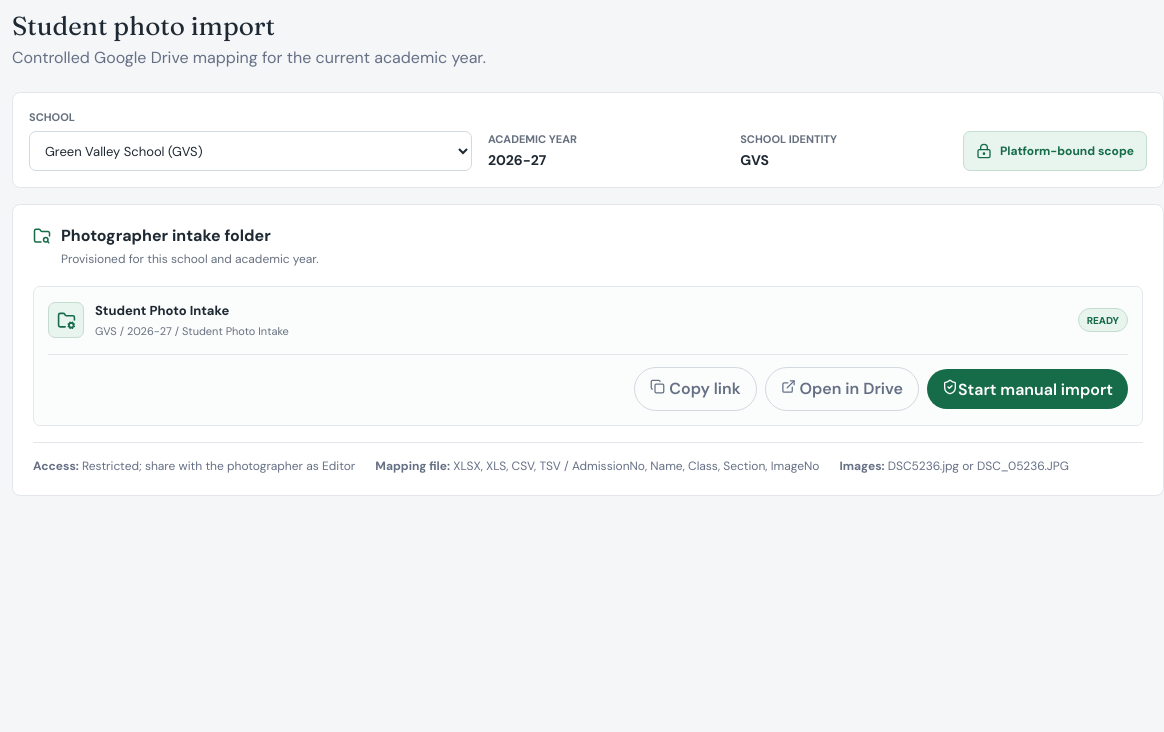
PhotoImportPanel › ignores an old history response after switching away and back to the same school
Select "Treehouse School (THS)" in the dropdown labelled "School" at (250, 151), box [29,131,472,171]
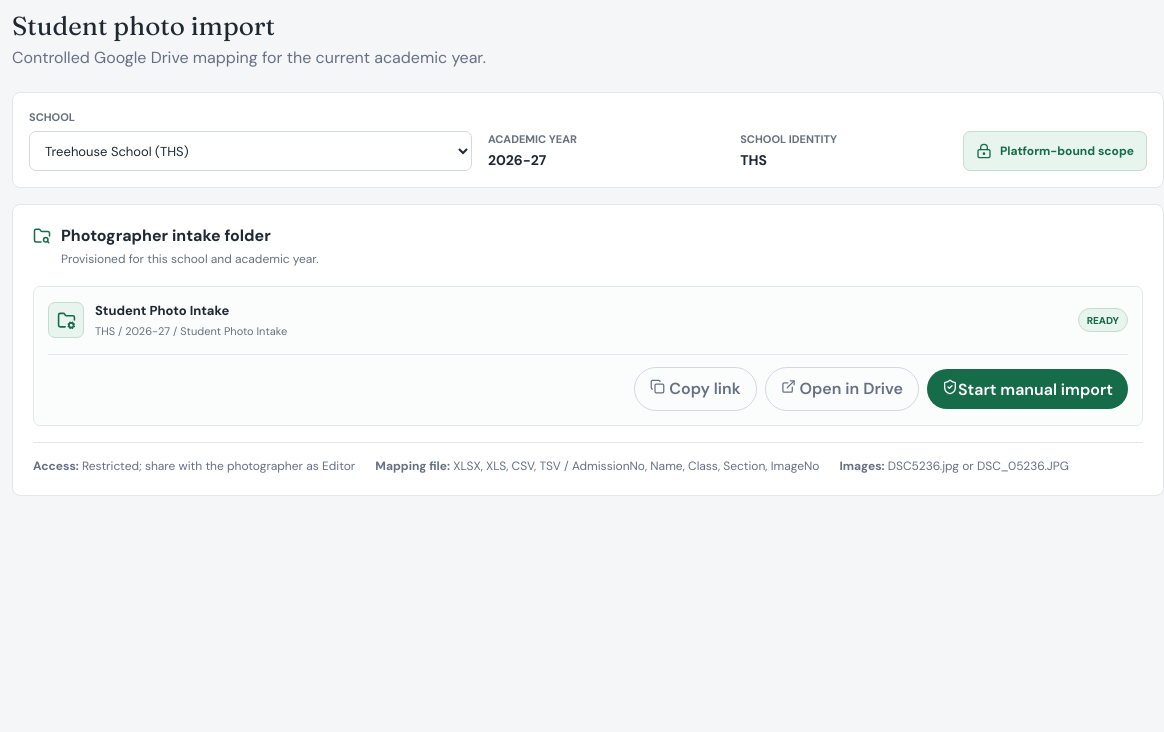
Select "Green Valley School (GVS)" in the dropdown labelled "School" at (250, 151), box [29,131,472,171]
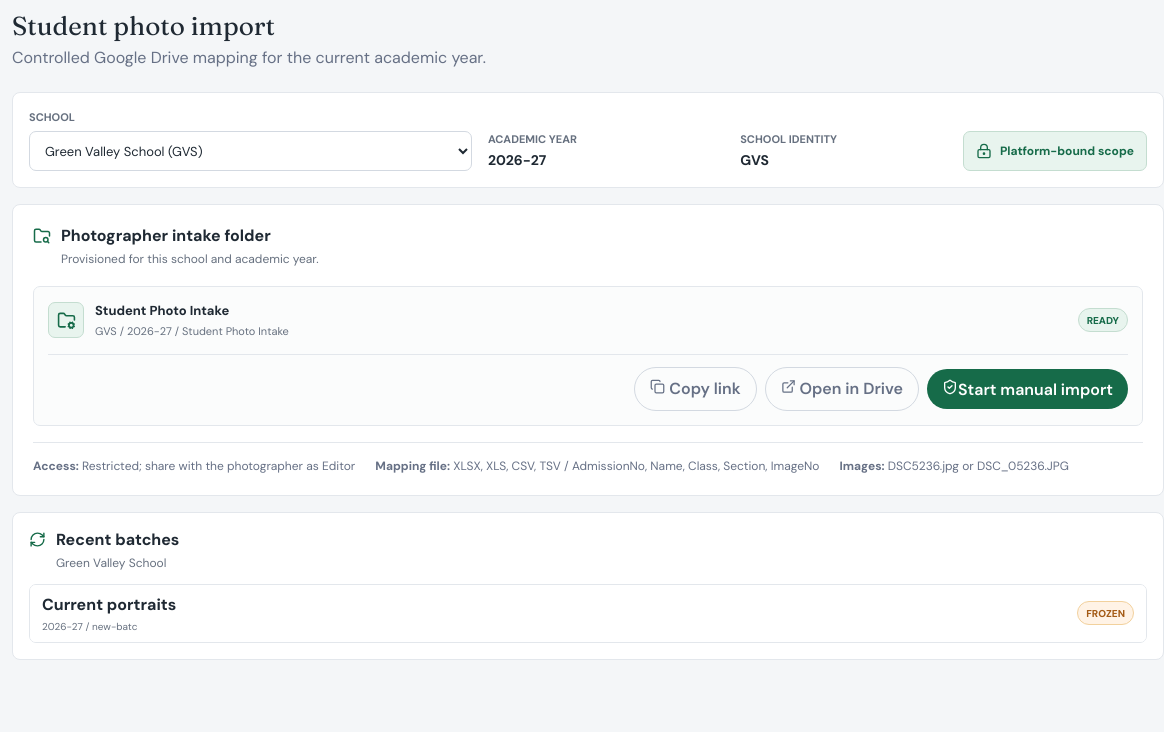
Check: the button "Current portraits 2026-27 / new-batc FROZEN" is shown, box [30,585,1146,642]
